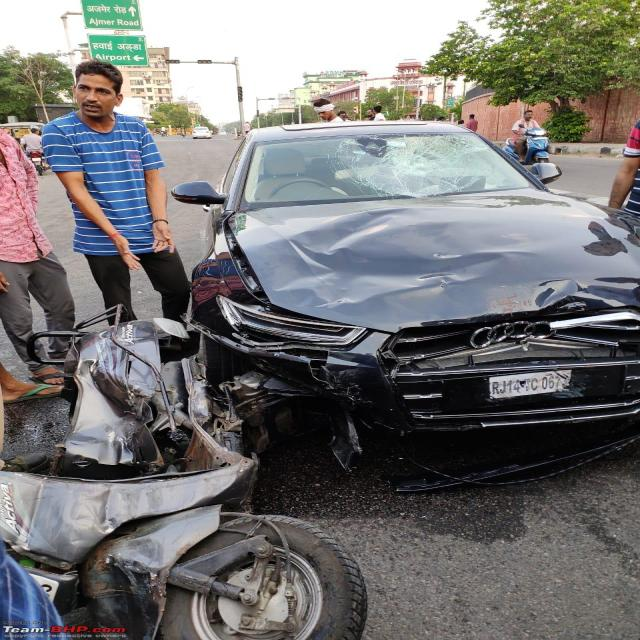accident: (182, 121, 640, 462), (0, 310, 367, 639)
motorcycle: (503, 110, 548, 165)
